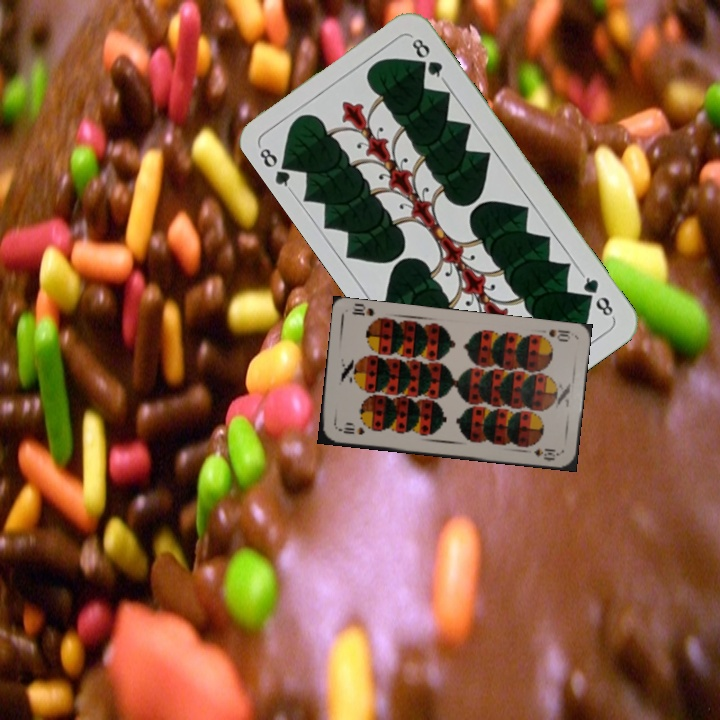G8: (255, 143, 298, 194), (577, 269, 617, 321)
S10: (544, 325, 573, 344), (334, 423, 367, 437)
